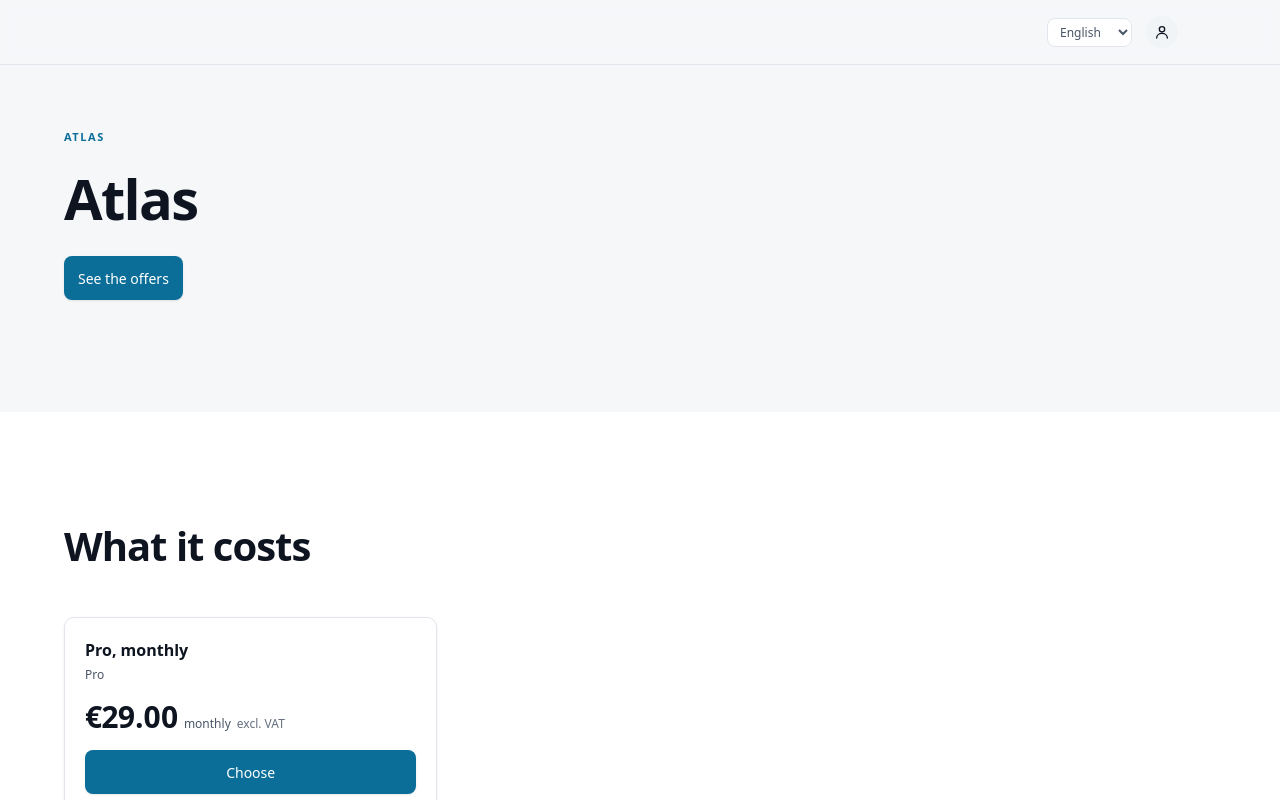
Test case: choosing an offer › opens the door with the offer in hand, to join and pay
Click the button "Choose".
click(251, 772)  # box [85, 750, 416, 794]
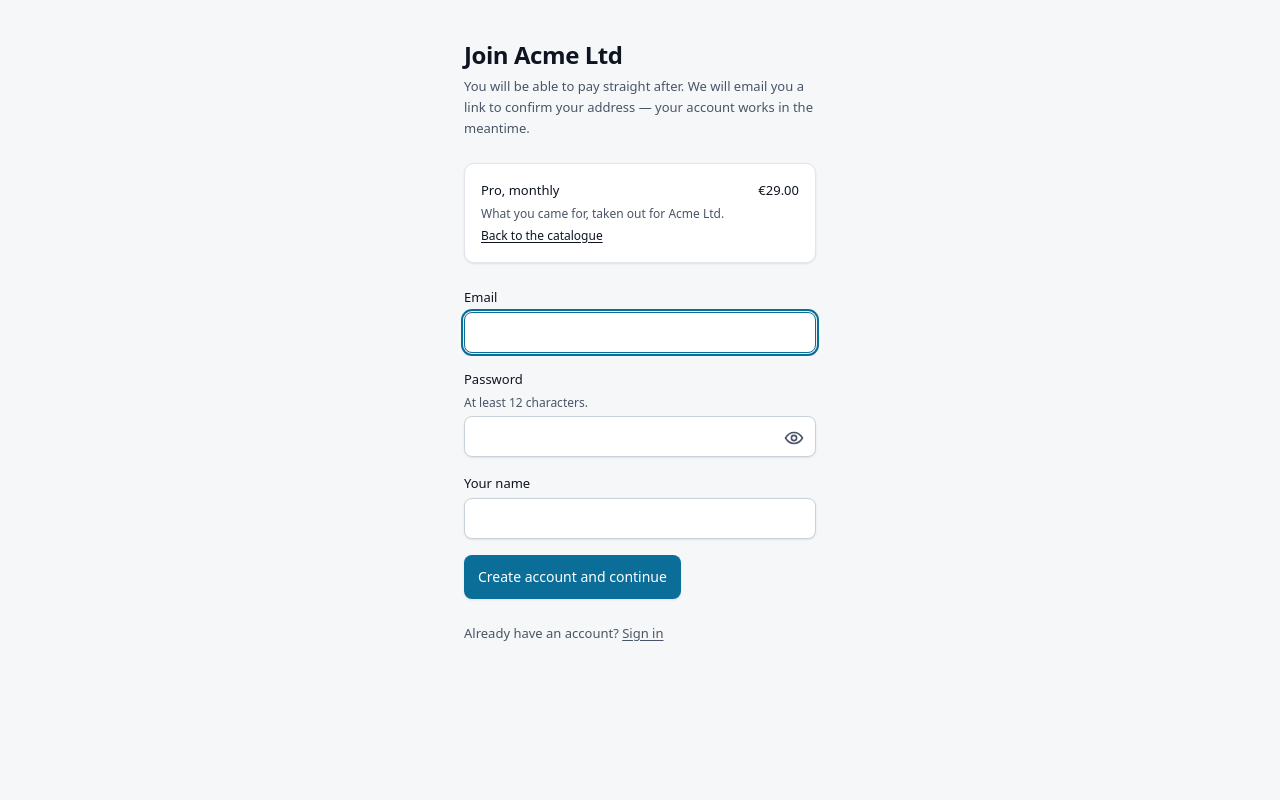
Check: the field labelled "Email" is shown, box [464, 312, 816, 353]
Check: the heading "Join Acme Ltd" is shown, box [464, 40, 623, 70]
Check: the text "pay straight after" is shown, box [464, 77, 813, 137]
